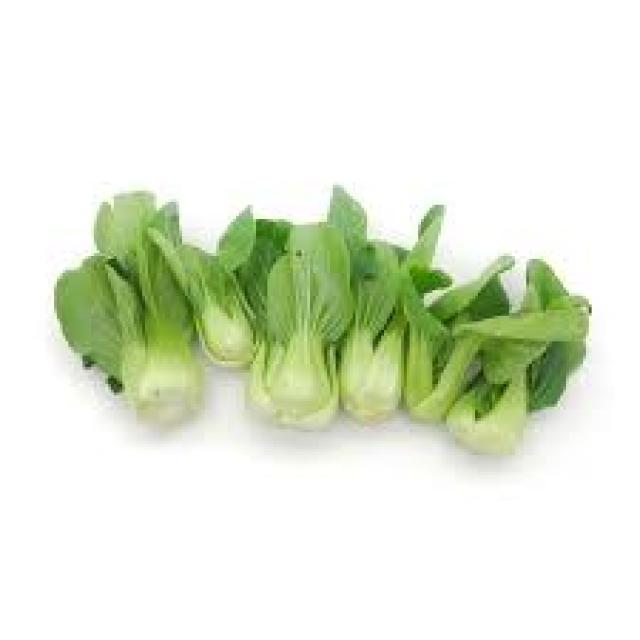bokchoy: (52, 183, 598, 454)
